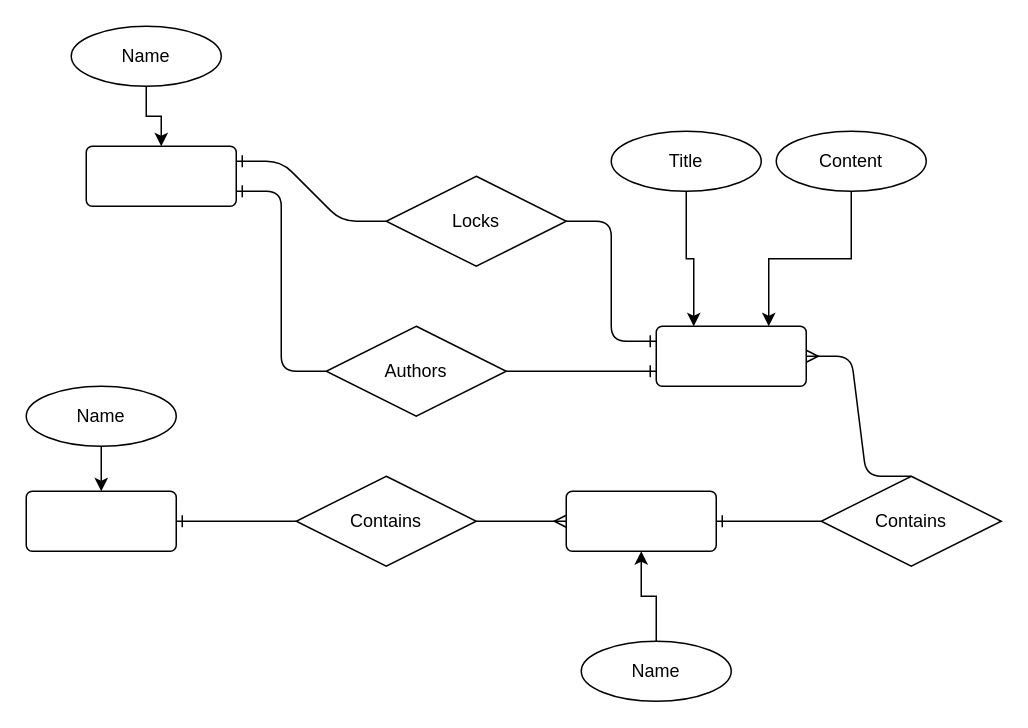
This 1028x728 diagram has some shape labels left out. The centre of each missing label's shape, as x and y in pixels:
"Lane" belongs at point 640,520.
"Table" belongs at point 100,520.
"Task" belongs at point 730,355.
"User" belongs at point 160,175.
